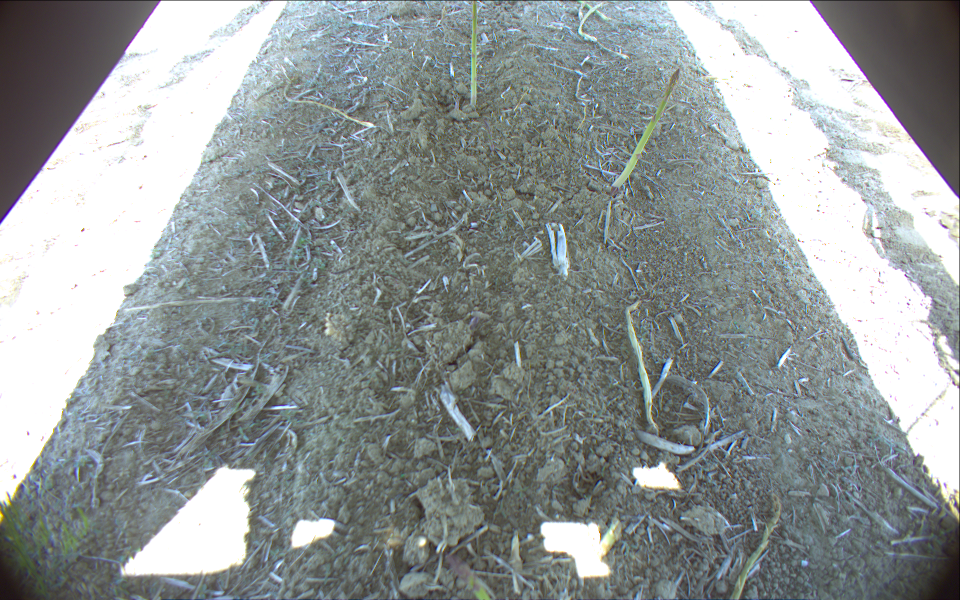aspa: (610, 68, 681, 189), (730, 491, 781, 600), (283, 74, 376, 128), (624, 301, 660, 437), (443, 554, 490, 600), (578, 1, 607, 42), (591, 519, 621, 558), (470, 1, 478, 109), (580, 1, 609, 21), (578, 1, 586, 22)
